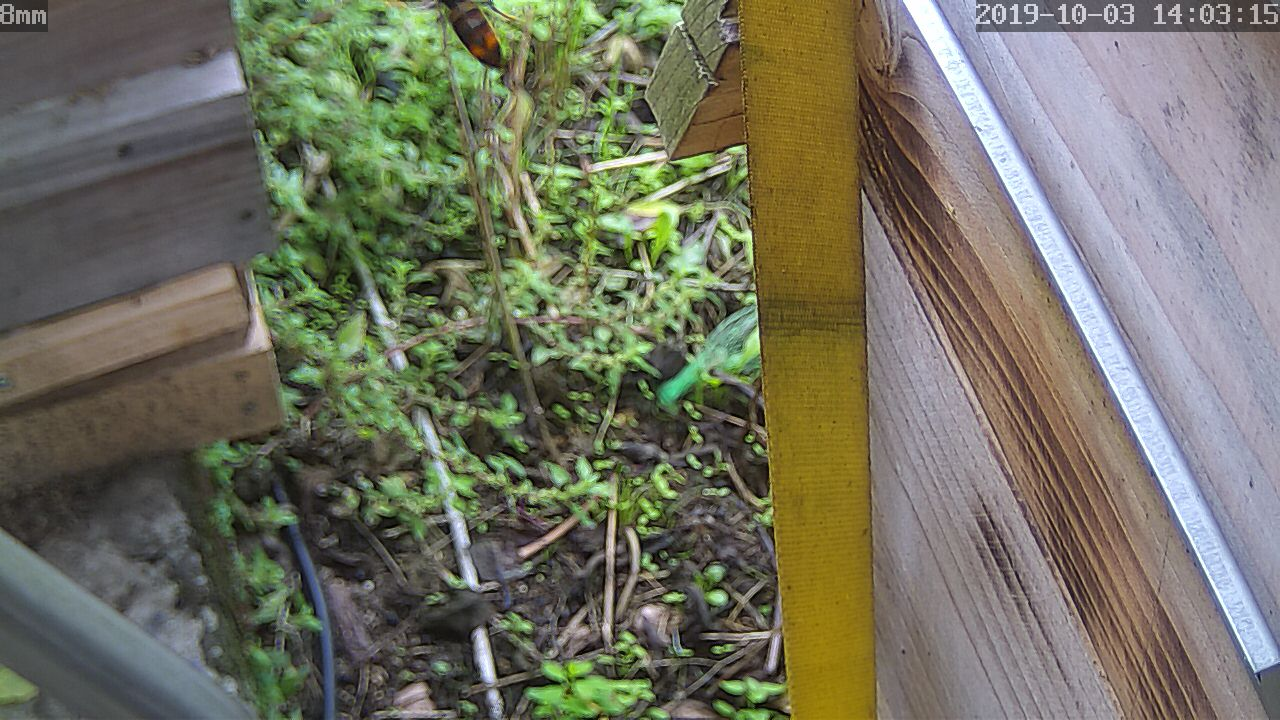hornet: (434, 1, 525, 83)
